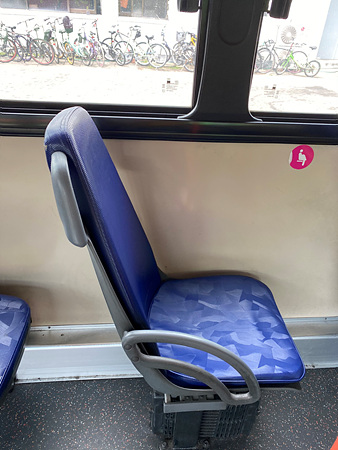seat: (43, 107, 303, 389)
